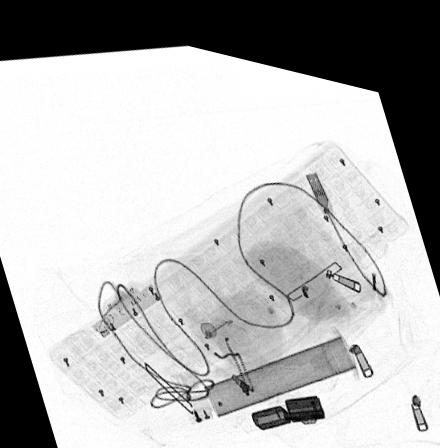Lighter: (250, 379, 325, 417)
